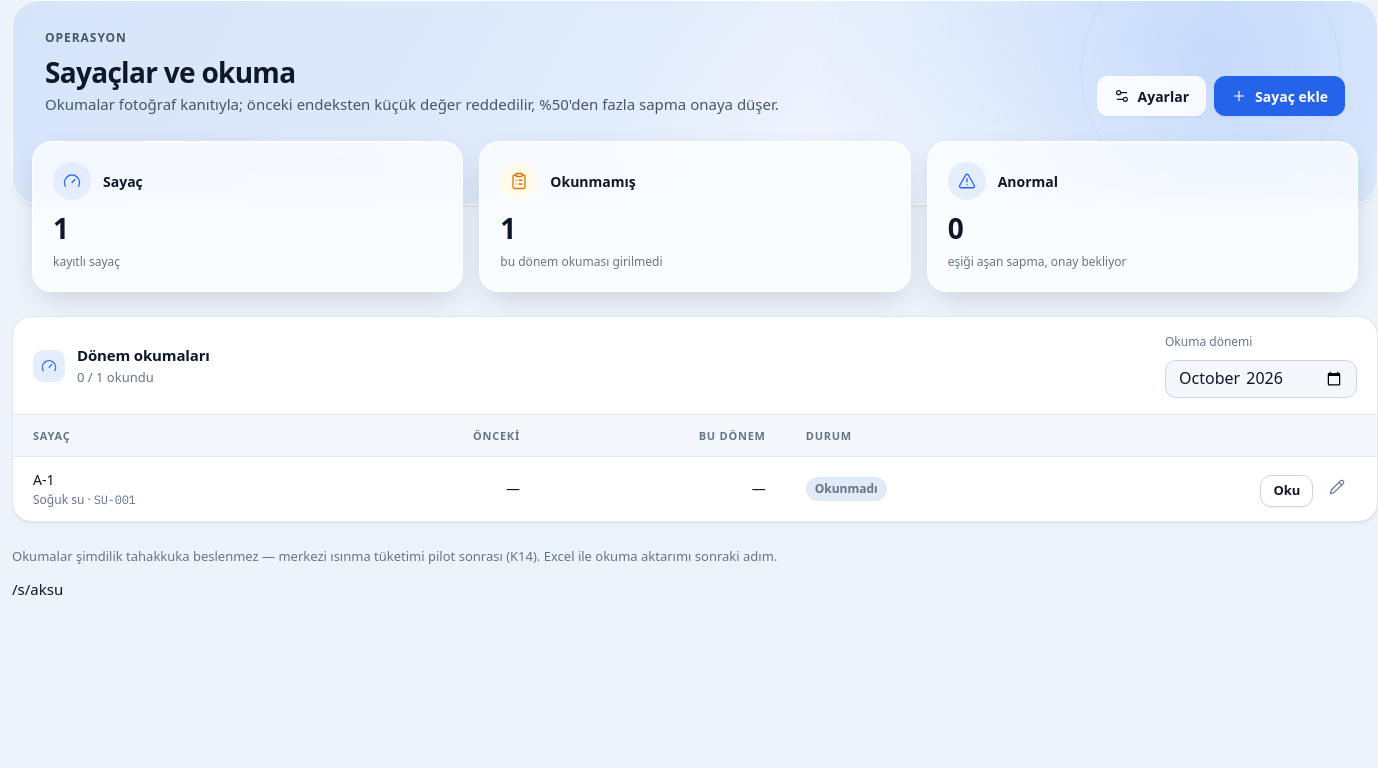
Sayaçlar: sayaç düzenleme › durumu arızalı yapıp PATCH gönderir
Step 1. Click the button named "SU-001 sayacını düzenle" → (1337, 488), box [1317,472,1357,504]
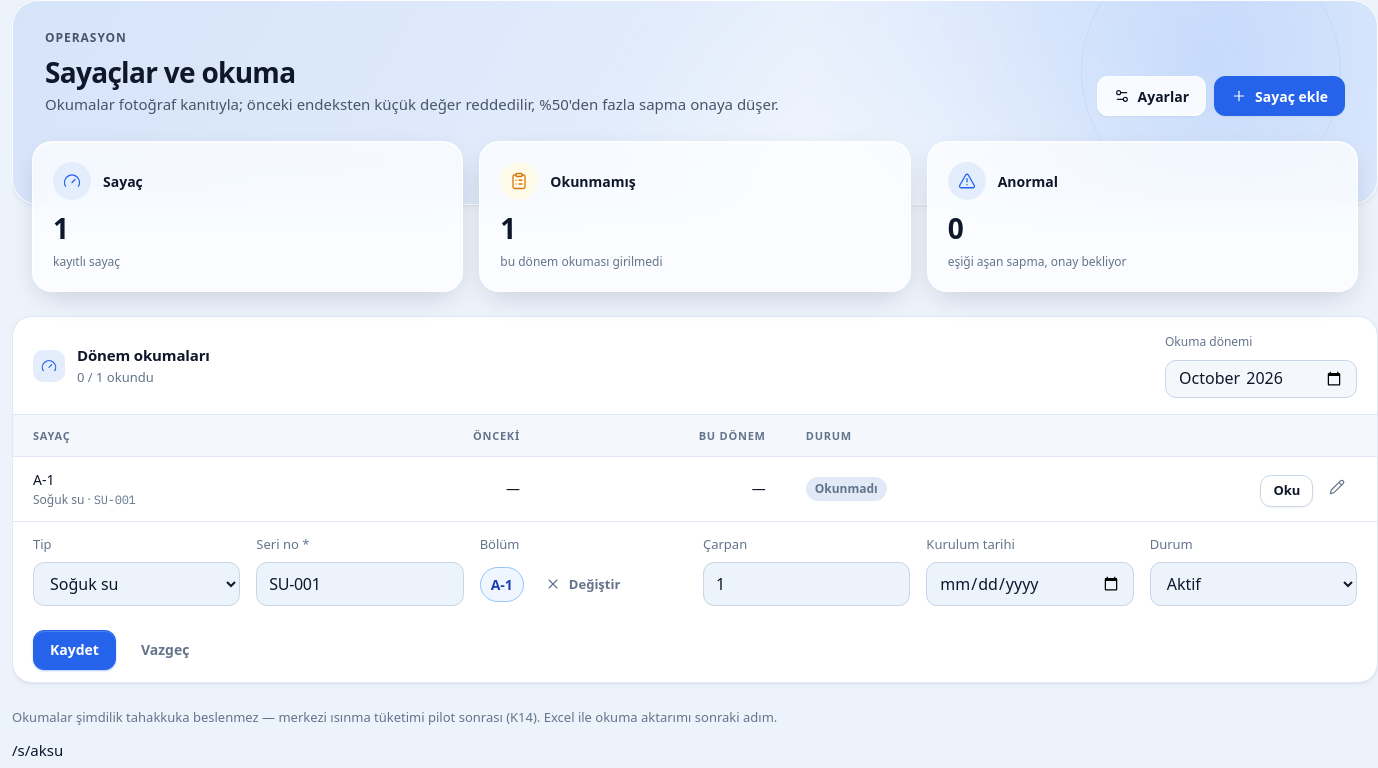
Expected: the field labelled "Seri no *" holds "SU-001", [256,562,464,606]
Step 2. Select "Arızalı" in the dropdown labelled "Durum" → (1253, 584), box [1150,562,1357,606]
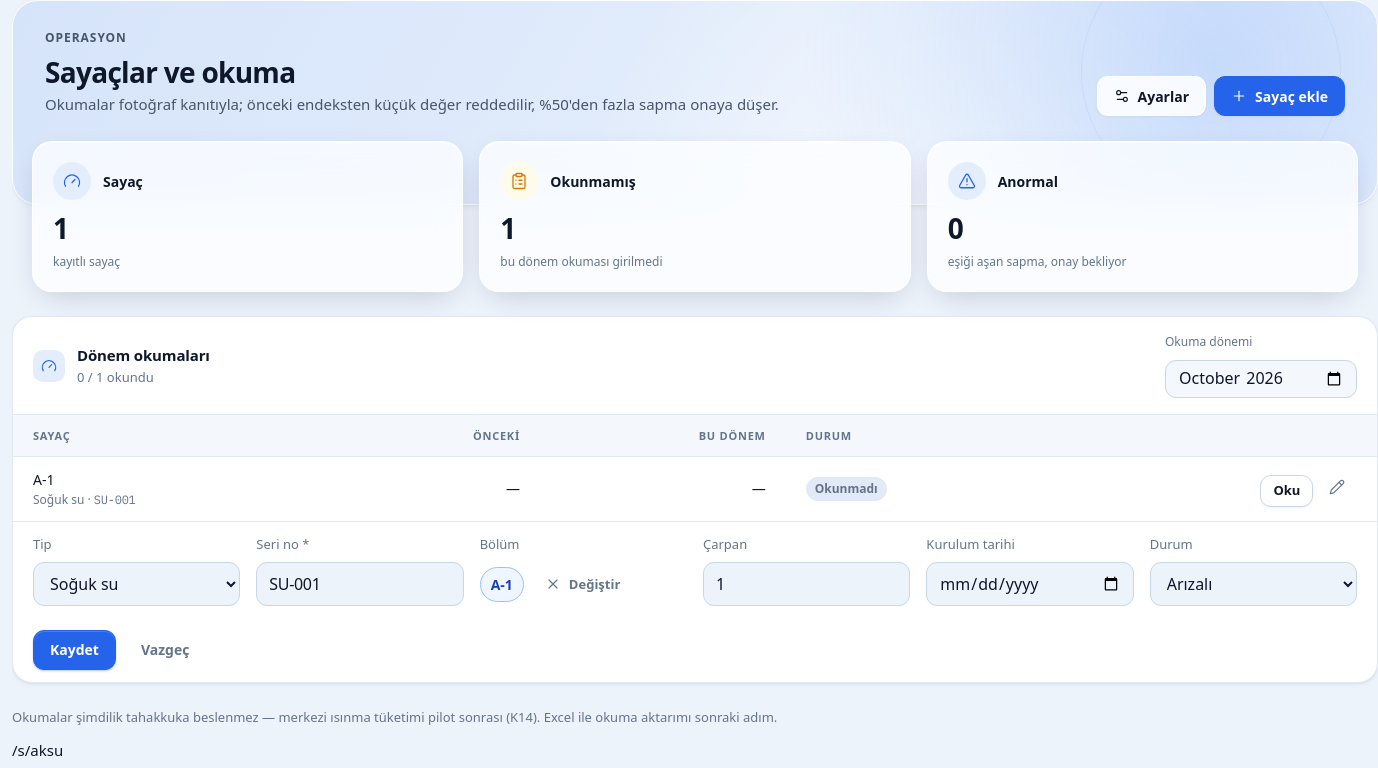
Step 3. Click the button "Kaydet" → (74, 650), box [33,630,116,670]
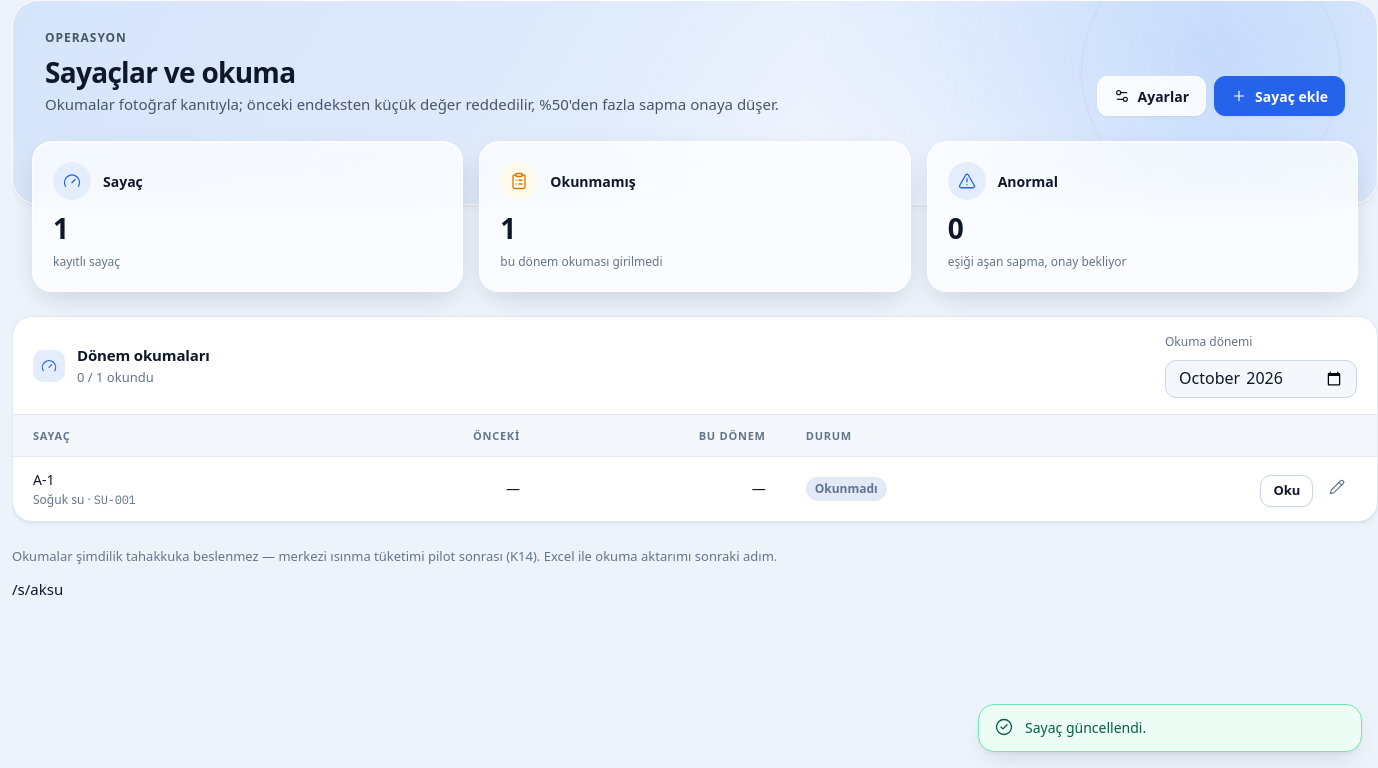
Expected: the text "Sayaç güncellendi." is shown, [1025,717,1146,739]
